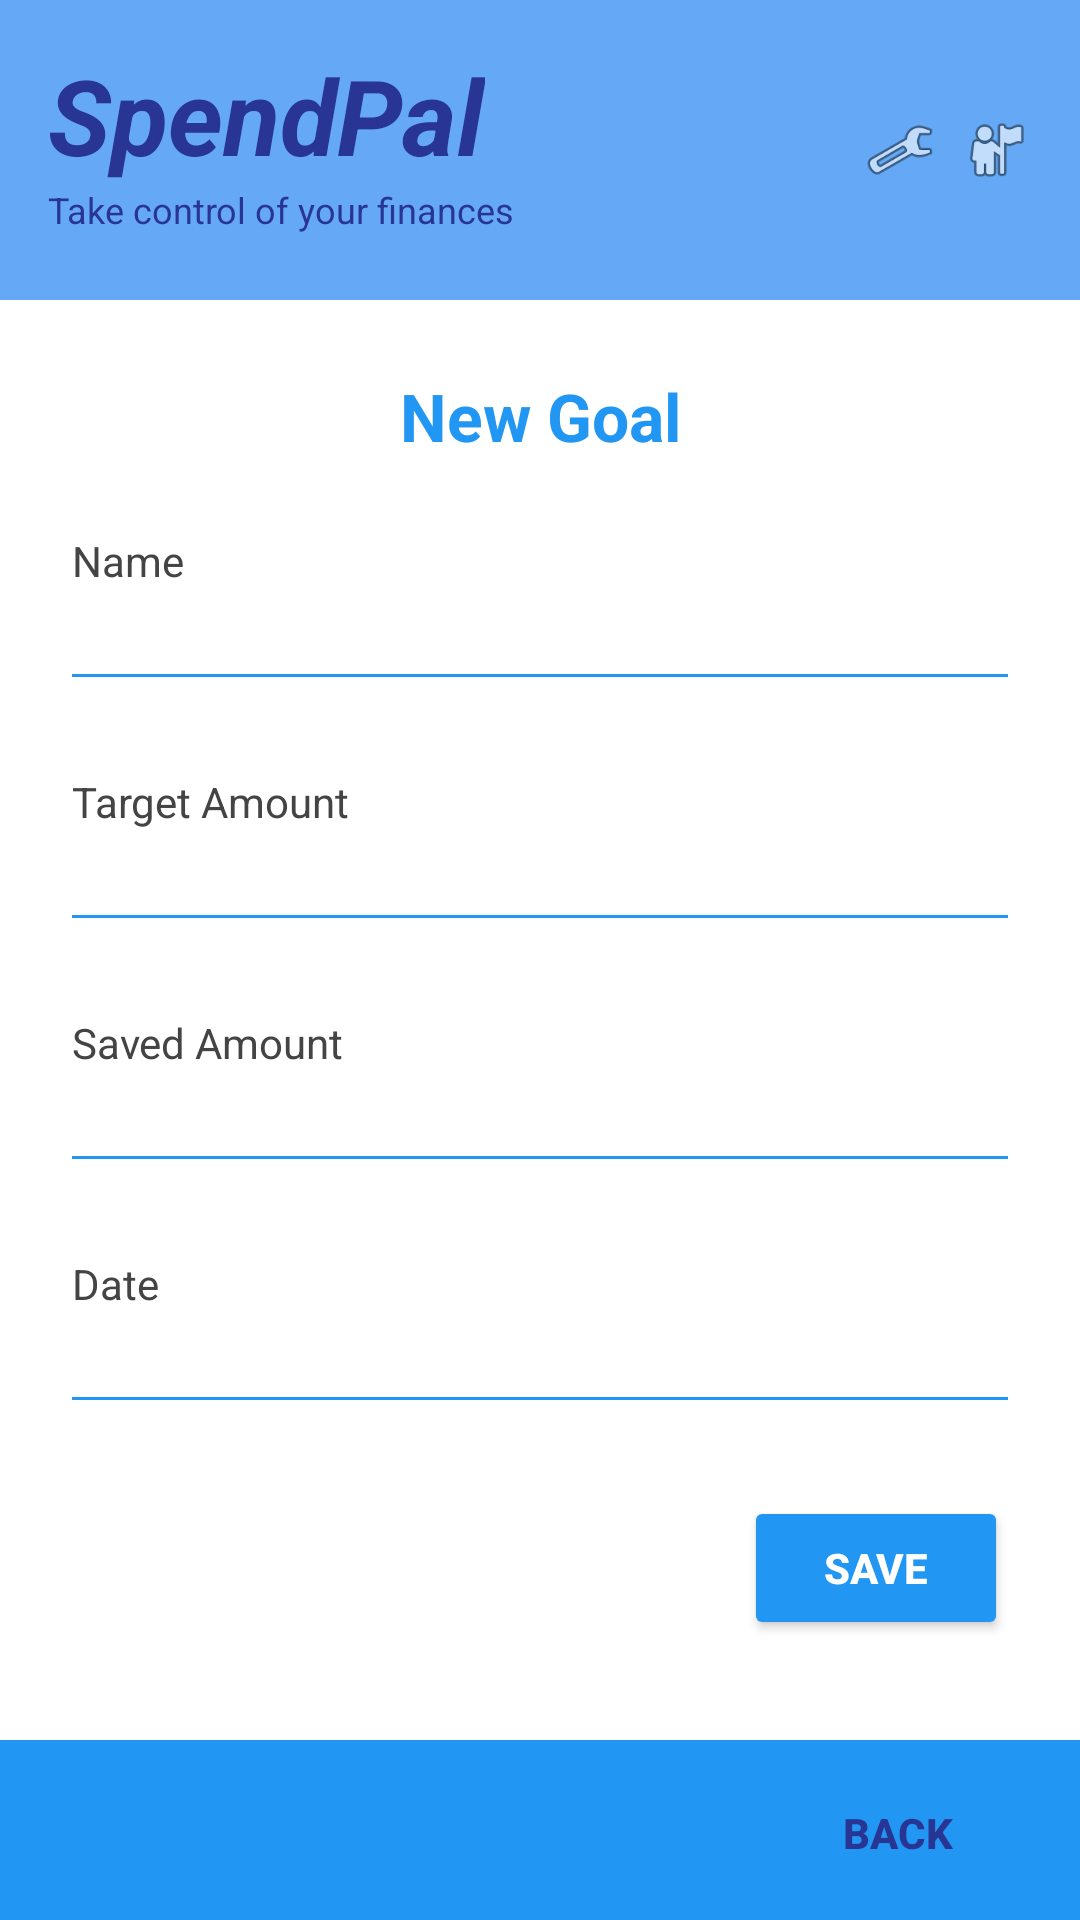

Screen size 1080 x 1920. Icon name, then its box in pixels as (x1, y1, x2, y2):
manage: (867, 125, 932, 175)
myplaces: (970, 123, 1024, 177)
